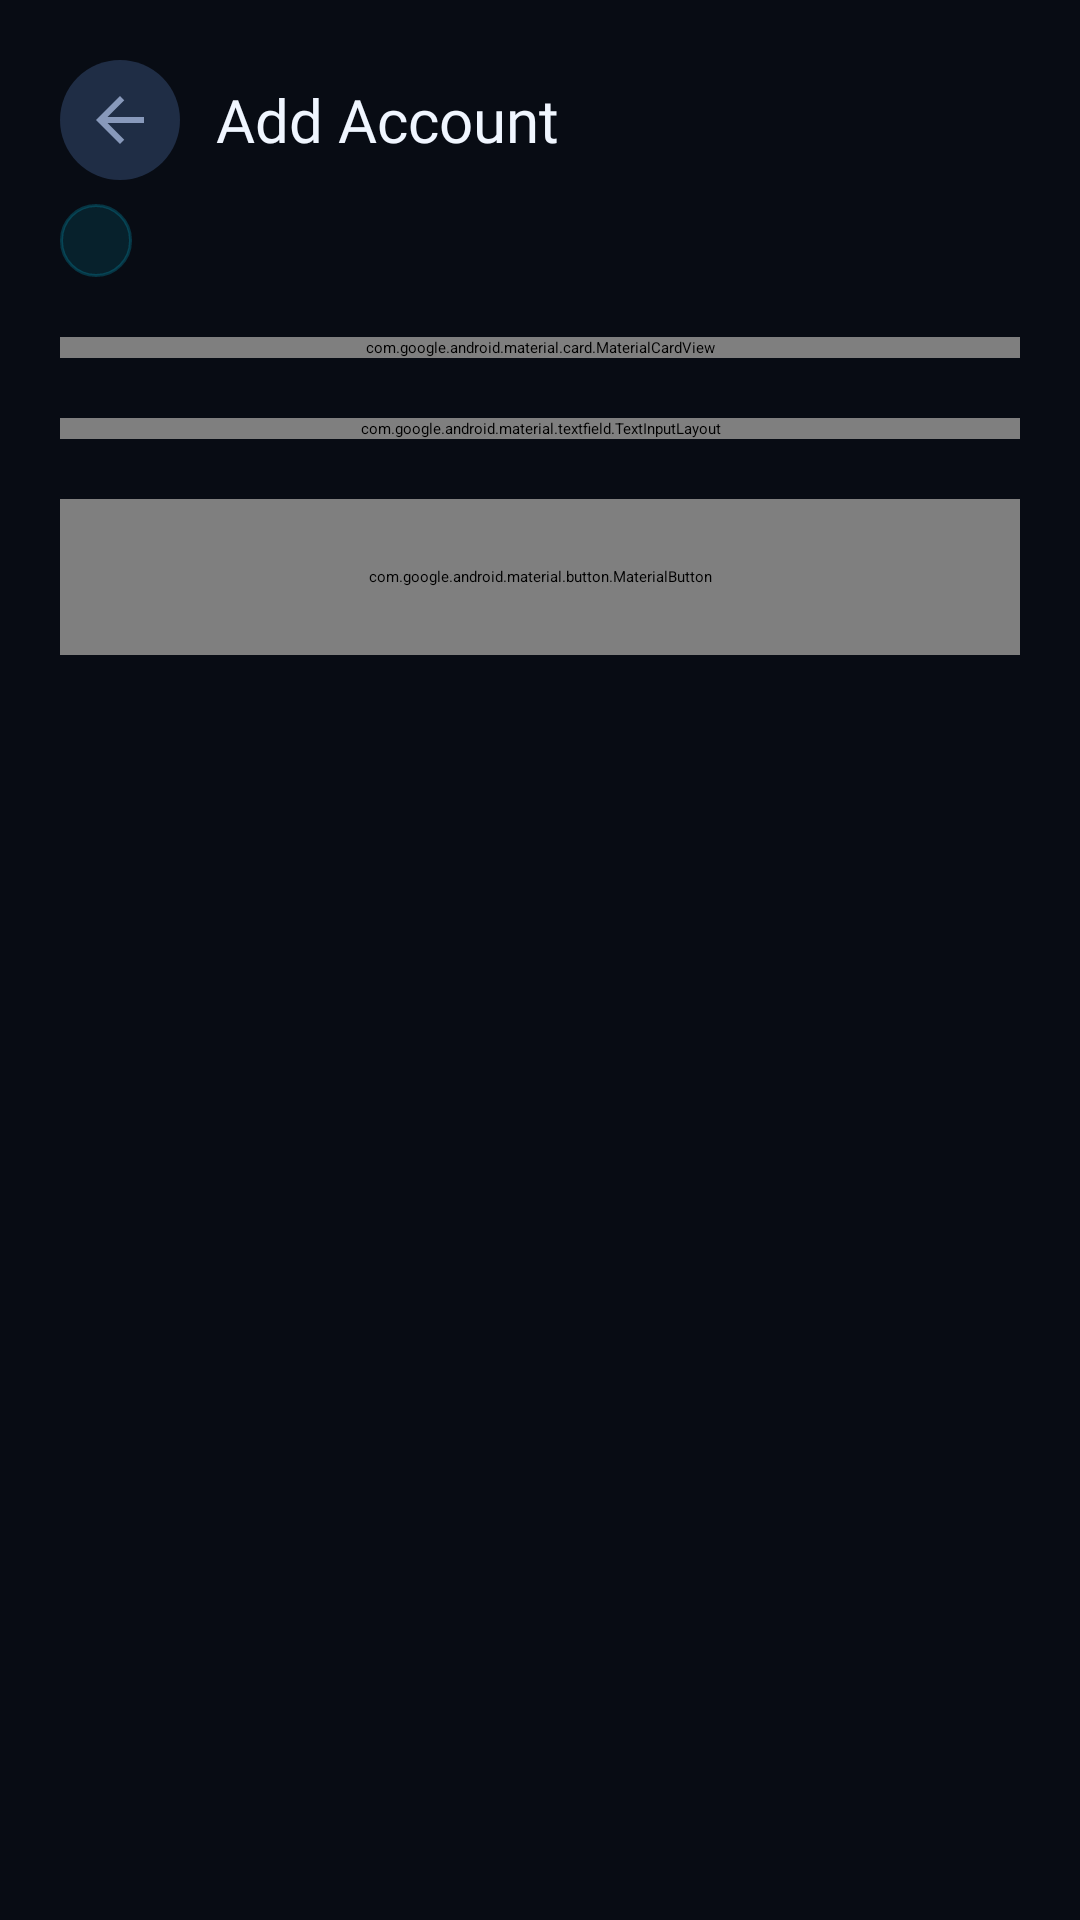

Where to tap for icons on this 1080px x 1920px app screen, as (x,y):
Back: (120,120)
